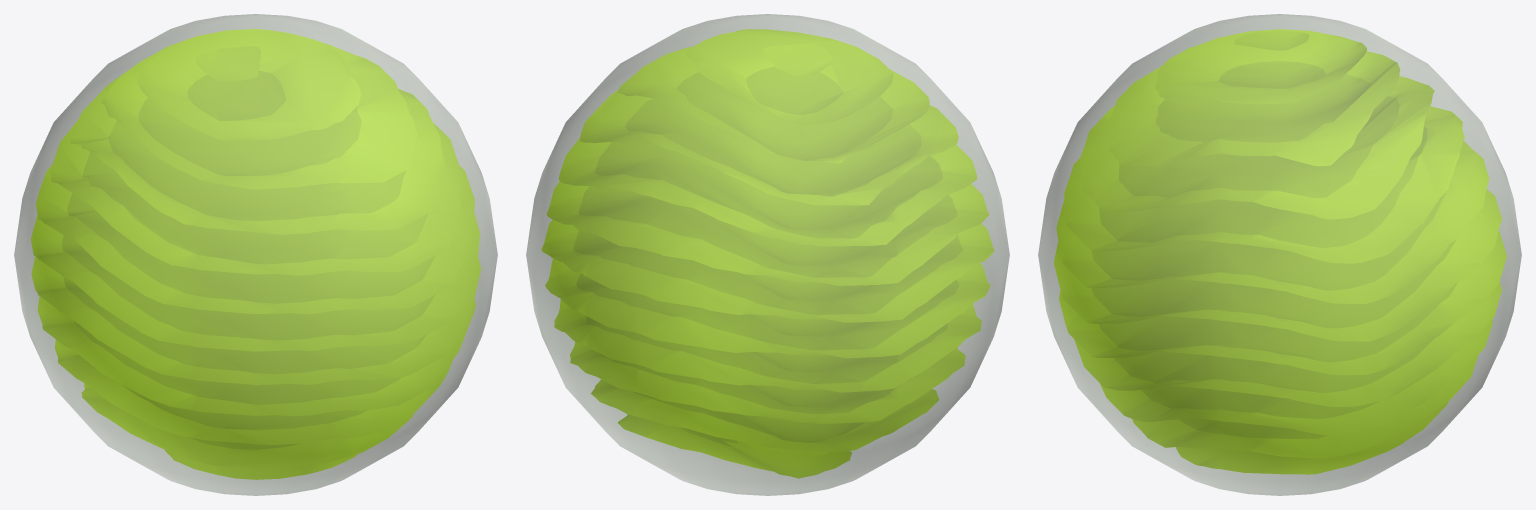
The model's file is Layers - vert.fbx.
3 renders of one model, left to right at view 1: azimuth 30°, elevation 25°; view 2: azimuth 150°, elevation 25°; view 3: azimuth 270°, elevation 25°, orthographic.
Visible parts, largest first — view 1: SketchUp; view 2: SketchUp; view 3: SketchUp.
Boxes of the visible parts, x1,y1,x2,y2 form: SketchUp: (14, 14, 497, 495); SketchUp: (526, 14, 1009, 495); SketchUp: (1038, 14, 1521, 495).
Bounding box in the file's own units: 100 × 100 × 100.
